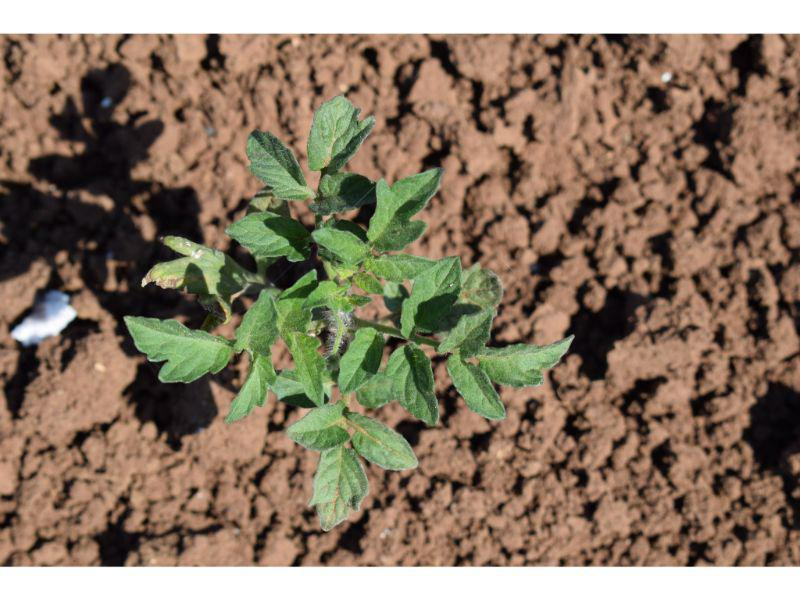tomato: (127, 91, 573, 534)
